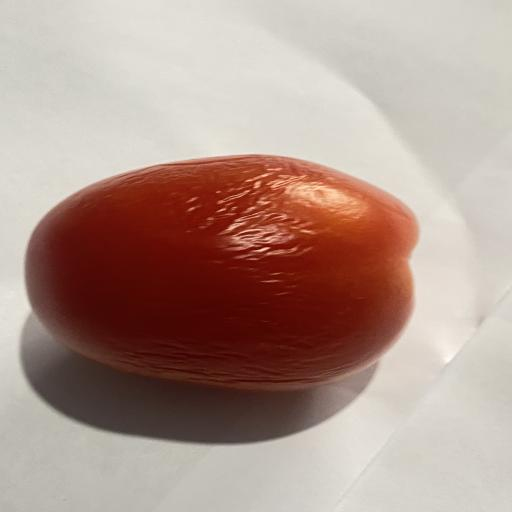spoiled: (26, 155, 418, 390)
